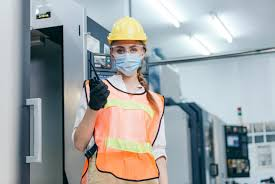Helmet: (108, 17, 151, 39)
Jacket: (86, 79, 162, 177)
Mask: (110, 56, 149, 76)
